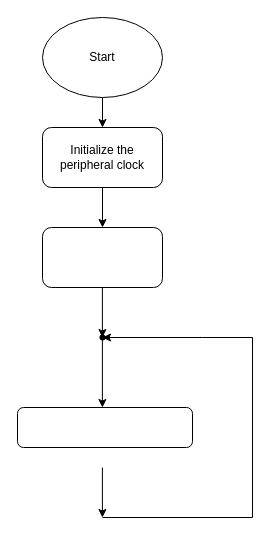
Some shapes in this 278 by 543 pixel diagram are drawn without their labels. The shapes that lost their labels are listed below. From the top down, each one's centre as x and y in pixels, then its label:
At (x=102, y=257): "Initialize the TCF timer".
At (x=104, y=427): "NCO_Pulse_Length_Demo".
